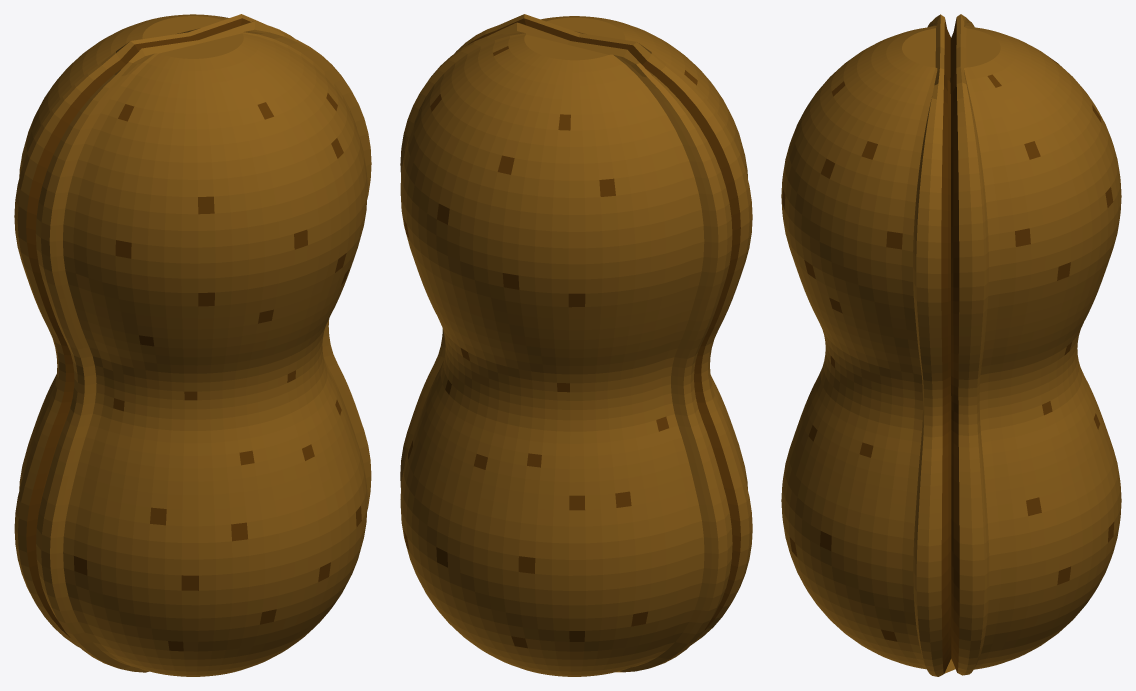
File: Nut.fbx
The picture shows the model from 3 angles, left to right: view 1: azimuth 30°, elevation 25°; view 2: azimuth 150°, elevation 25°; view 3: azimuth 270°, elevation 25°; orthographic projection. The views are drawn at different scales.
Parts seen in each view (by area): view 1: Sphere; view 2: Sphere; view 3: Sphere.
Part boxes in pixels (x1,y1,x2,y2): Sphere: [14, 14, 371, 676]; Sphere: [400, 14, 752, 676]; Sphere: [781, 14, 1121, 676].
Bounding box in the file's own units: 429 × 781 × 396.
